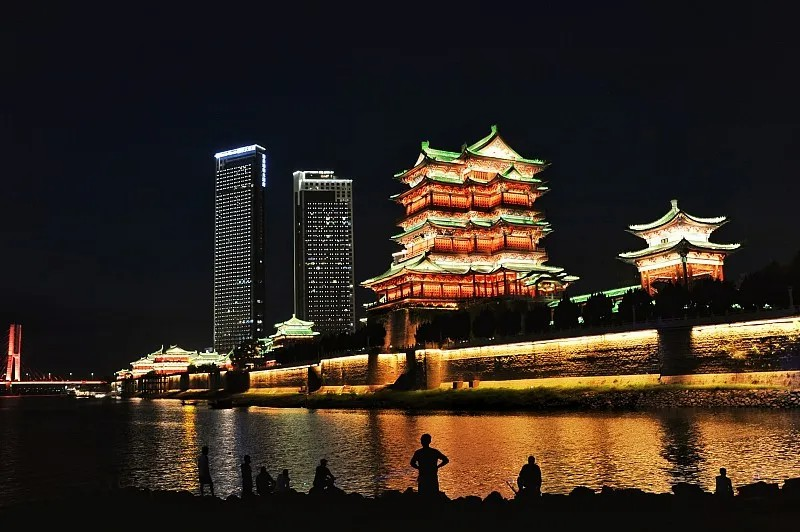Teng: (358, 124, 580, 307)
